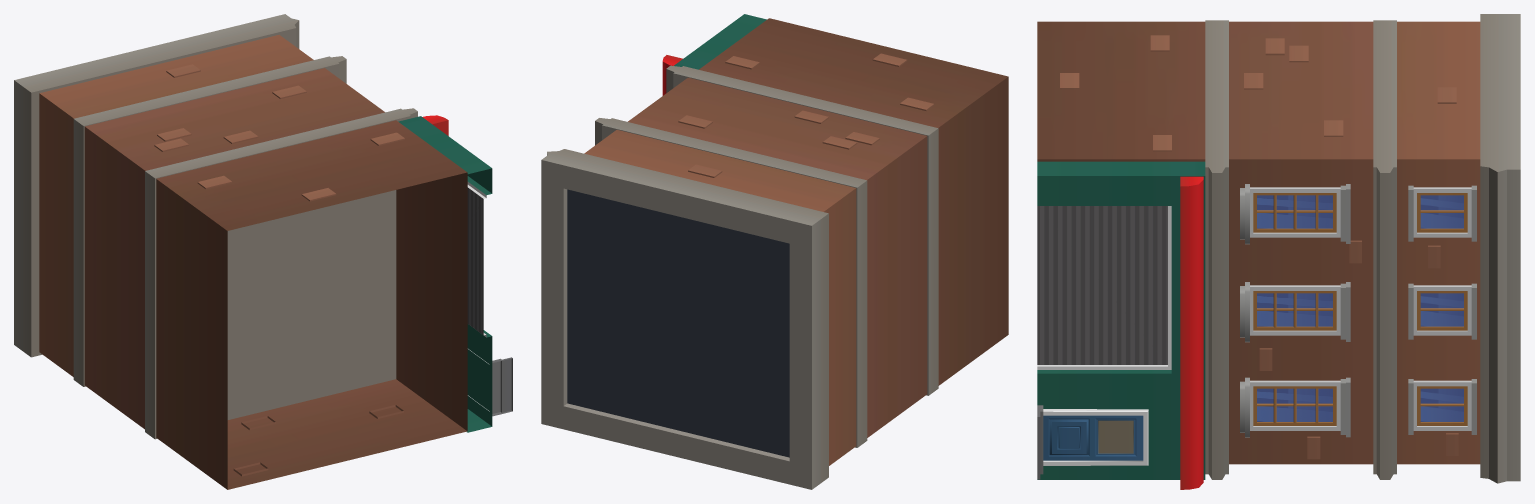
The model's file is Building_19_2_A.fbx.
3 views of the same model, side by side, from view 1: azimuth 30°, elevation 25°; view 2: azimuth 150°, elevation 25°; view 3: azimuth 270°, elevation 25° (orthographic). The views are drawn at different scales.
Visible parts, largest first — view 1: Building_19_2_A; view 2: Building_19_2_A; view 3: Building_19_2_A.
Part boxes in pixels (left/top/right/bottom): Building_19_2_A: left=14, top=14, right=512, bottom=489; Building_19_2_A: left=541, top=14, right=1008, bottom=489; Building_19_2_A: left=1037, top=14, right=1520, bottom=489.
Bounding box in the file's own units: 774 × 667 × 938.
